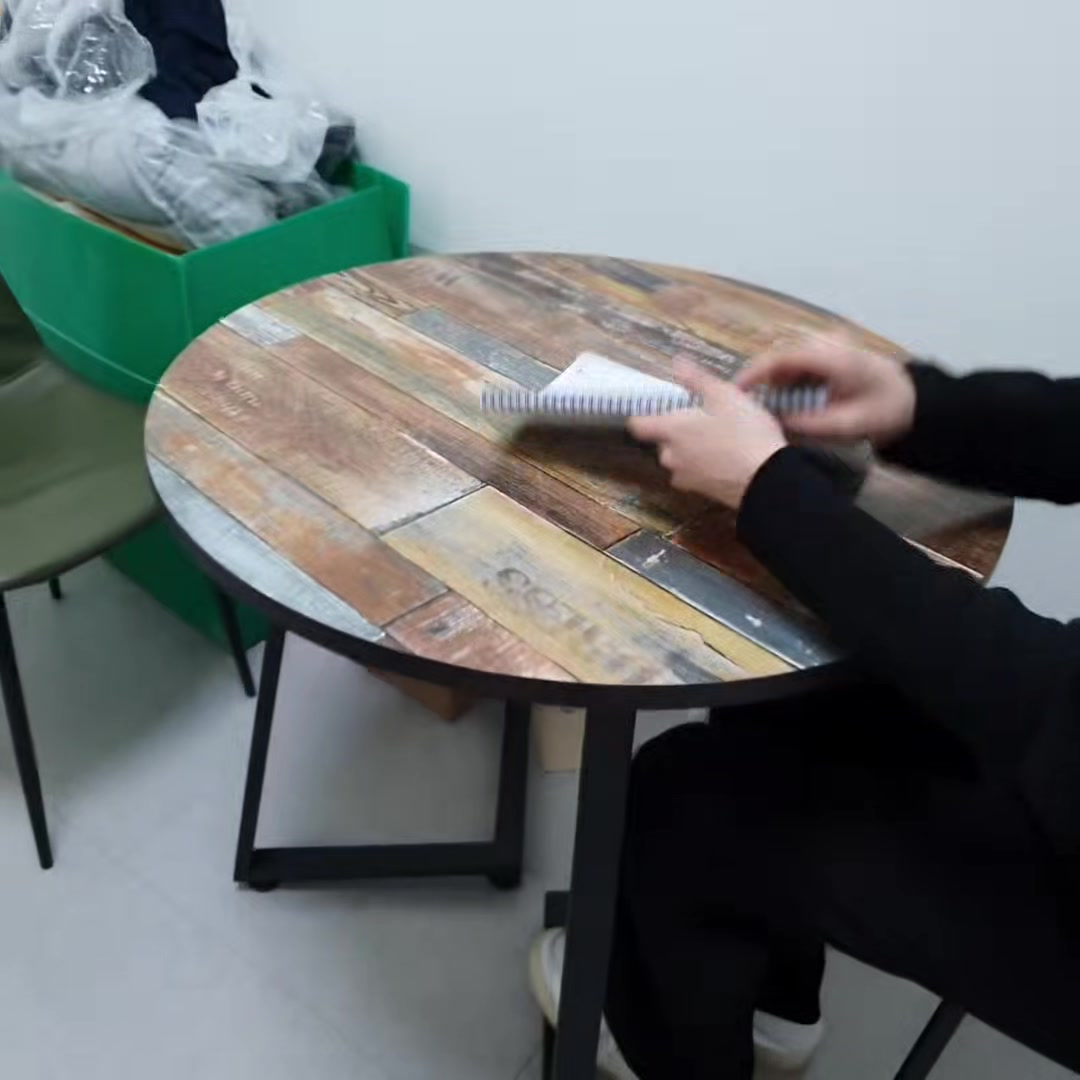book: (484, 347, 814, 412)
